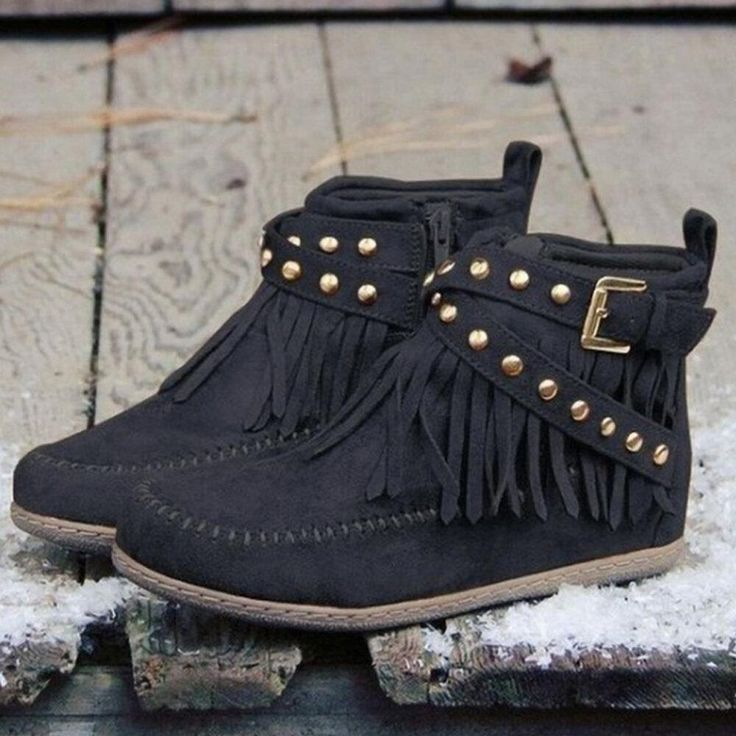gamuza: (13, 141, 718, 610)
